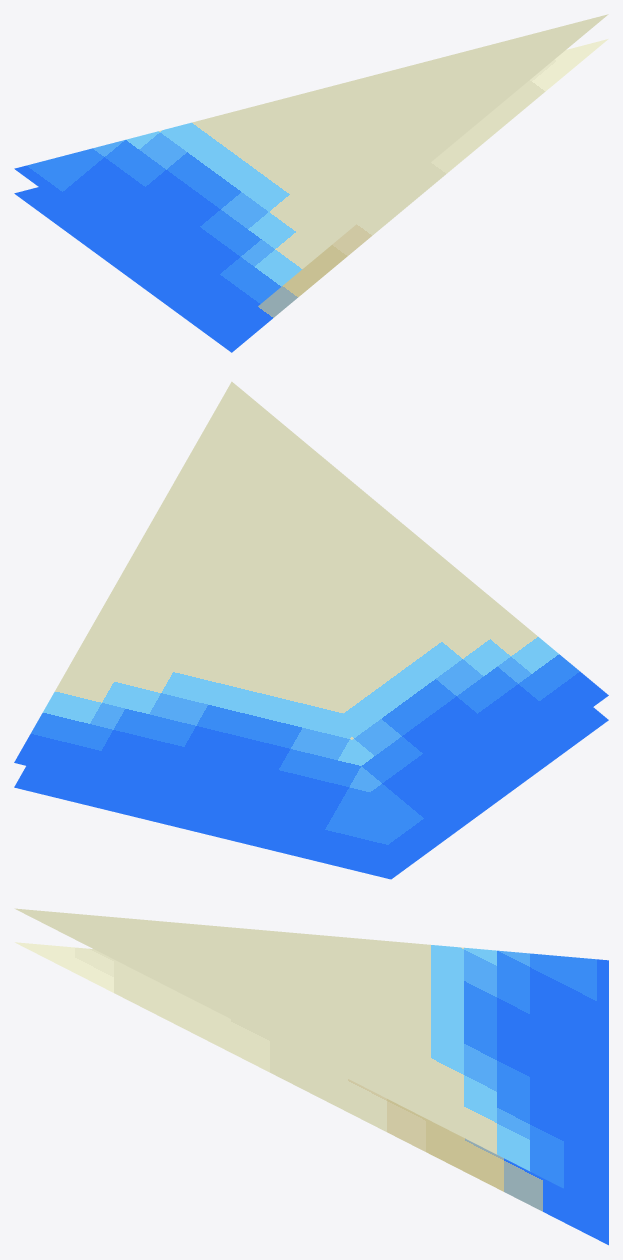
Rendered from rive-sable-native-03.glb.
The picture shows the model from 3 angles, top to bottom: view 1: azimuth 30°, elevation 25°; view 2: azimuth 150°, elevation 25°; view 3: azimuth 270°, elevation 25°; orthographic projection. The views are drawn at different scales.
Size of the model in its own units: 1 by 0.625 by 1.
2 materials, 2 textured.
